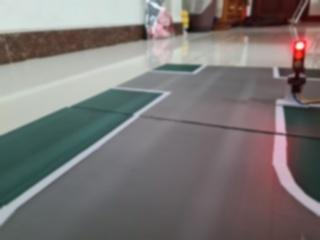red: (286, 34, 310, 85)
